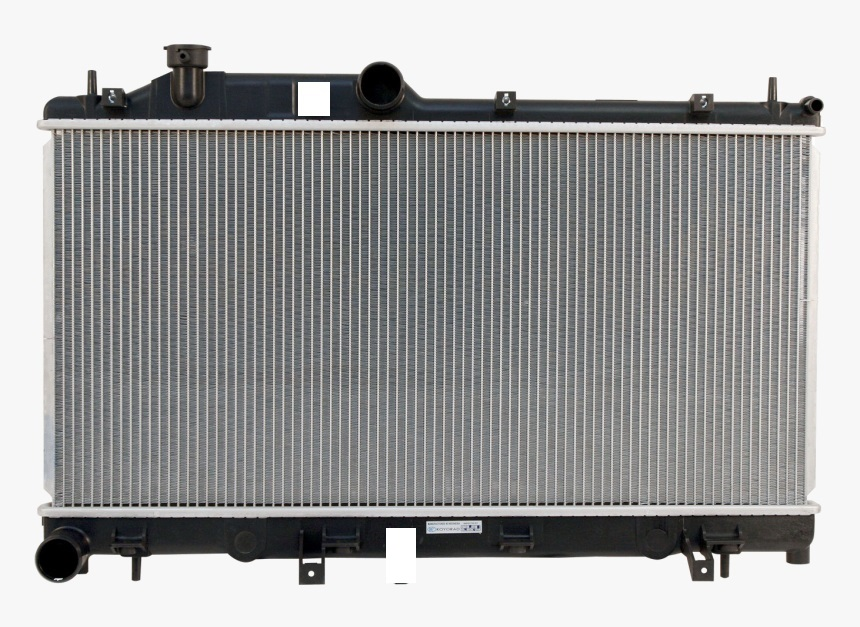c1: (86, 67, 127, 116)
c10: (230, 527, 262, 554)
c11: (297, 524, 362, 585)
c13: (496, 521, 537, 557)
c14: (682, 526, 747, 582)
c2: (162, 42, 212, 113)
c4: (355, 59, 407, 112)
c5: (493, 88, 520, 113)
c6: (691, 92, 716, 114)
c7: (767, 74, 825, 123)
c8: (34, 528, 90, 585)
c9: (108, 525, 150, 582)
